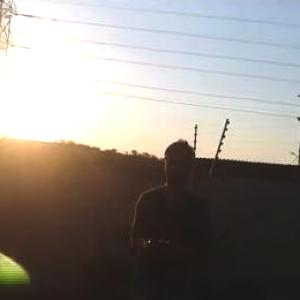follow: (121, 130, 212, 299)
